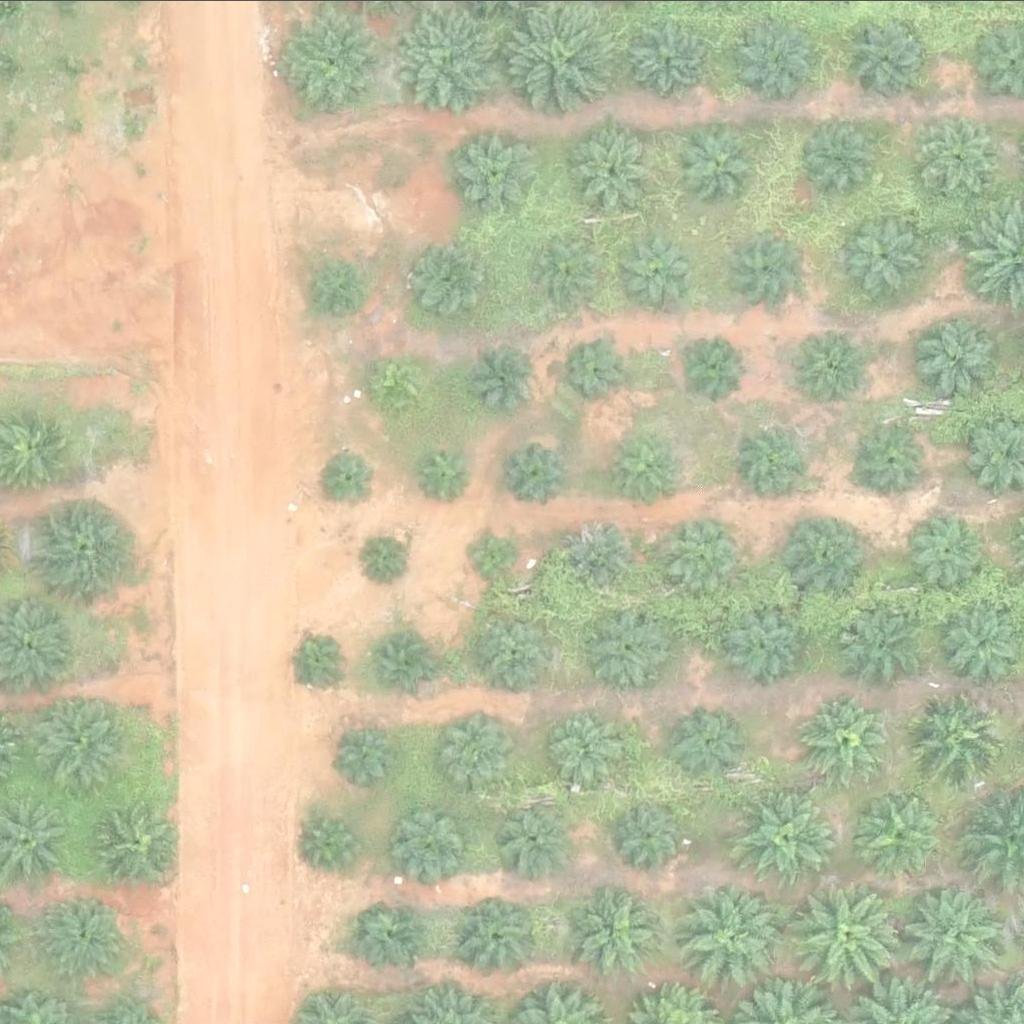Kelapa_Sawit: (785, 871, 911, 996), (25, 692, 126, 792), (31, 493, 132, 593), (283, 9, 384, 109), (685, 884, 785, 984), (736, 790, 836, 890), (912, 687, 1012, 787), (904, 882, 1004, 982), (843, 206, 932, 294), (583, 602, 671, 690), (783, 507, 871, 595), (41, 889, 129, 977), (91, 796, 179, 884), (575, 887, 663, 975), (723, 598, 811, 686), (915, 110, 1003, 198), (860, 789, 948, 877), (913, 316, 1002, 403), (454, 893, 542, 980), (843, 7, 931, 94), (804, 694, 892, 781), (842, 599, 930, 686), (545, 711, 621, 786), (493, 801, 569, 876), (612, 796, 688, 871), (668, 707, 744, 782), (526, 228, 602, 303), (416, 244, 492, 319), (577, 130, 653, 205), (354, 901, 430, 976), (457, 135, 533, 210), (630, 15, 706, 90), (744, 17, 820, 92), (396, 803, 471, 878), (438, 710, 513, 785), (482, 612, 557, 687), (858, 418, 933, 493), (742, 430, 817, 505), (733, 229, 808, 304), (805, 124, 880, 199), (677, 122, 752, 197), (617, 228, 692, 303), (668, 520, 743, 595), (567, 513, 642, 588), (472, 341, 547, 416), (562, 327, 637, 402), (676, 329, 751, 404), (800, 326, 875, 401), (916, 512, 991, 587), (286, 630, 349, 693), (375, 629, 438, 692), (615, 432, 678, 495), (370, 355, 433, 418), (308, 263, 371, 326), (302, 811, 365, 873), (335, 721, 398, 783), (317, 446, 380, 508), (417, 442, 480, 504), (504, 442, 567, 504), (361, 528, 412, 578), (467, 529, 518, 579)
